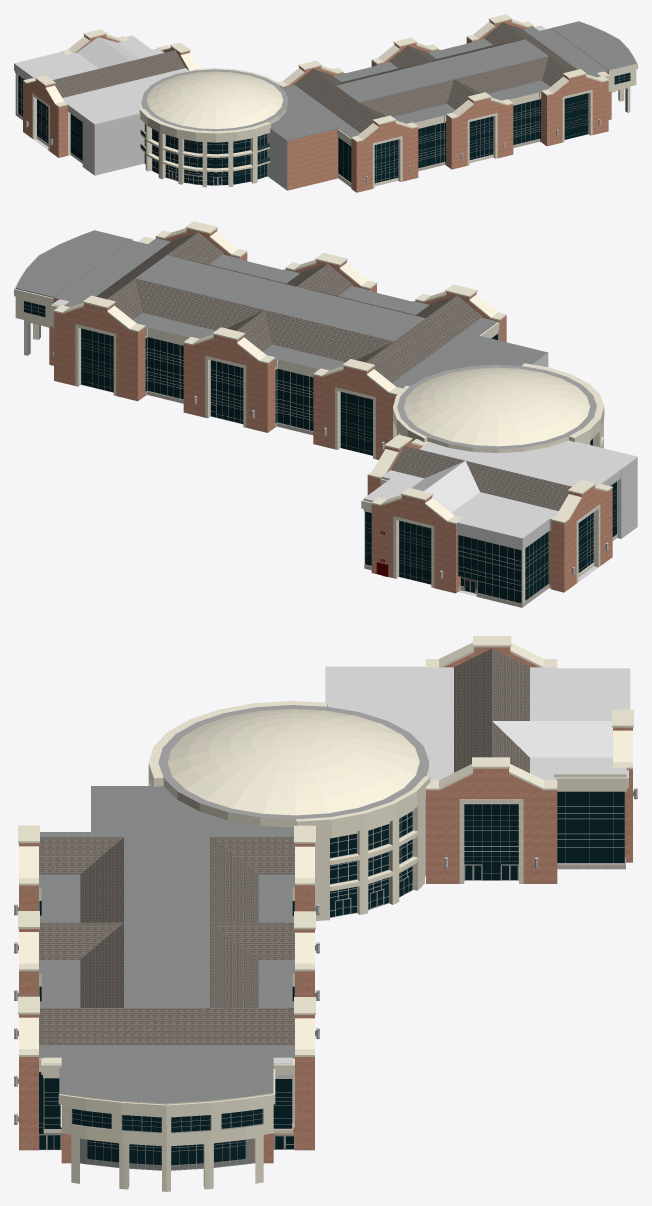
File: iesb.gltf
3 renders of one model, top to bottom at view 1: azimuth 30°, elevation 25°; view 2: azimuth 150°, elevation 25°; view 3: azimuth 270°, elevation 25°, orthographic. The views are drawn at different scales.
Visible parts, largest first — view 1: G-__555564, G-__555861; view 2: G-__555564, G-__555861; view 3: G-__555564, G-__555861, G-__555852.
Boxes of the visible parts, bbox=[...] form: G-__555564: bbox=[14, 14, 608, 192]; G-__555861: bbox=[551, 21, 637, 119]; G-__555564: bbox=[53, 221, 637, 607]; G-__555861: bbox=[14, 230, 132, 365]; G-__555564: bbox=[18, 636, 633, 1150]; G-__555861: bbox=[58, 1068, 275, 1191]; G-__555852: bbox=[39, 1057, 294, 1150].
Bounding box in the file's own units: 128 × 16.59 × 75.88.
15 materials, 11 textured.
